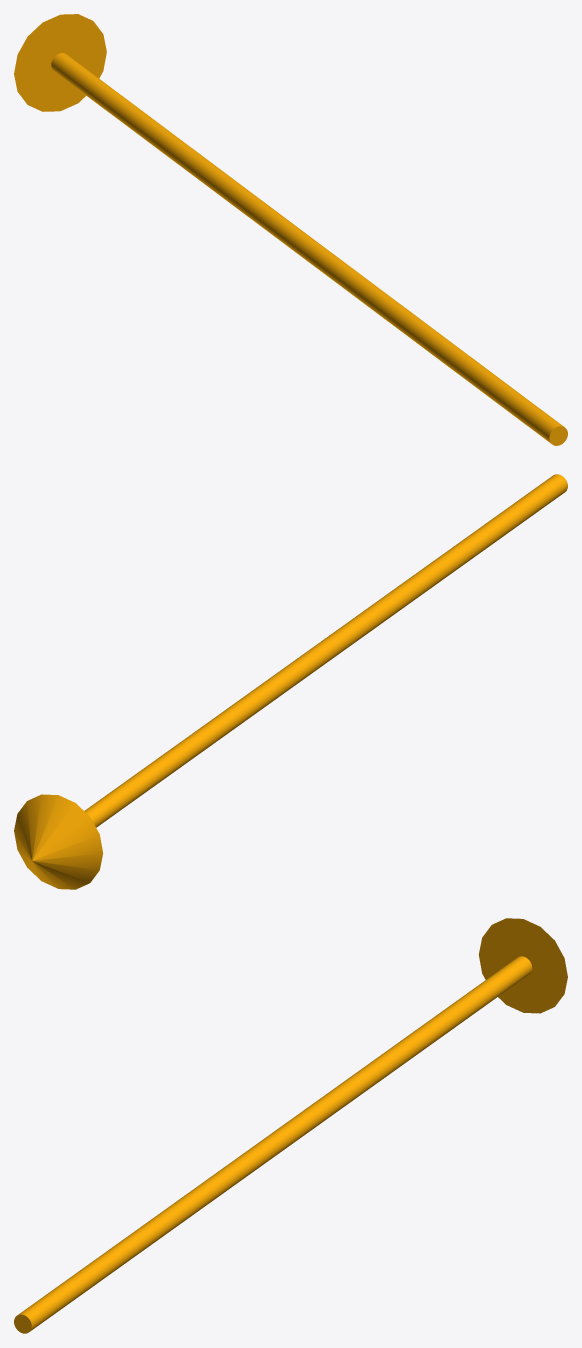
Rendered from sensor_arrow_accel.glb.
The picture shows the model from 3 angles, top to bottom: view 1: azimuth 30°, elevation 25°; view 2: azimuth 150°, elevation 25°; view 3: azimuth 330°, elevation 25°; orthographic projection. The views are drawn at different scales.
Visible parts, largest first — view 1: Cylinder, Cylinder_1; view 2: Cylinder, Cylinder_1; view 3: Cylinder, Cylinder_1.
Part boxes in pixels (bbox=[...]): Cylinder: bbox=[51, 53, 567, 445]; Cylinder_1: bbox=[14, 14, 106, 111]; Cylinder: bbox=[84, 474, 567, 827]; Cylinder_1: bbox=[14, 794, 103, 889]; Cylinder: bbox=[14, 956, 532, 1333]; Cylinder_1: bbox=[478, 918, 567, 1013].
Size of the model in its own units: 0.1 by 0.1 by 1.
